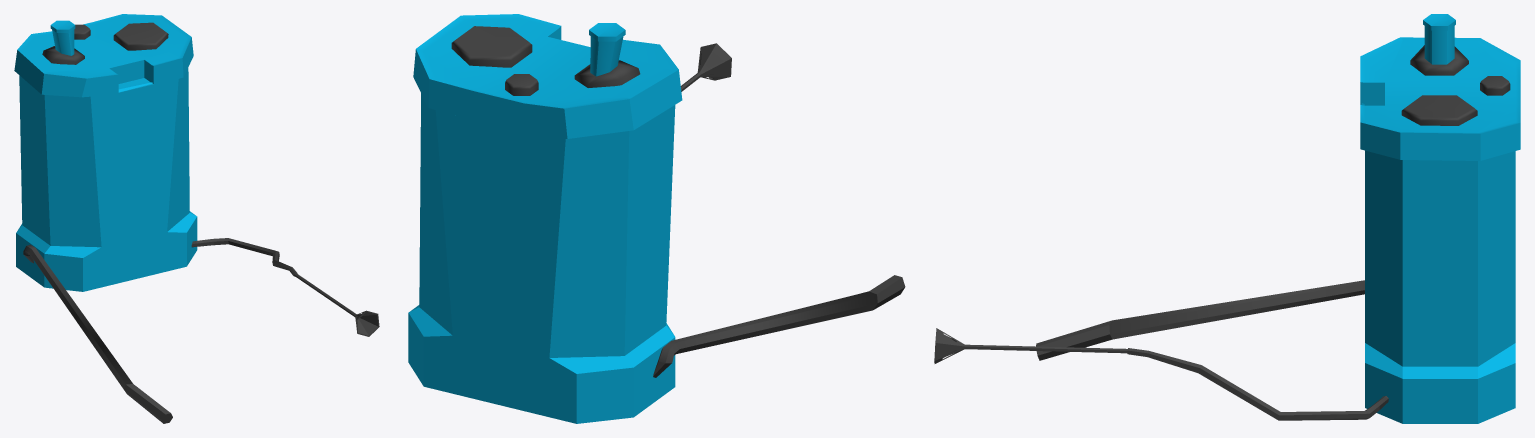
File: Pesticide machine.fbx
3 views of the same model, side by side, from view 1: azimuth 30°, elevation 25°; view 2: azimuth 150°, elevation 25°; view 3: azimuth 270°, elevation 25° (orthographic). The views are drawn at different scales.
Visible parts, largest first — view 1: Pesticide_machine; view 2: Pesticide_machine; view 3: Pesticide_machine.
Boxes of the visible parts, x1,y1,x2,y2 form: Pesticide_machine: (14,14,379,423); Pesticide_machine: (408,14,905,423); Pesticide_machine: (934,14,1520,423).
Size of the model in its own units: 49.44 by 60.19 by 86.62.
